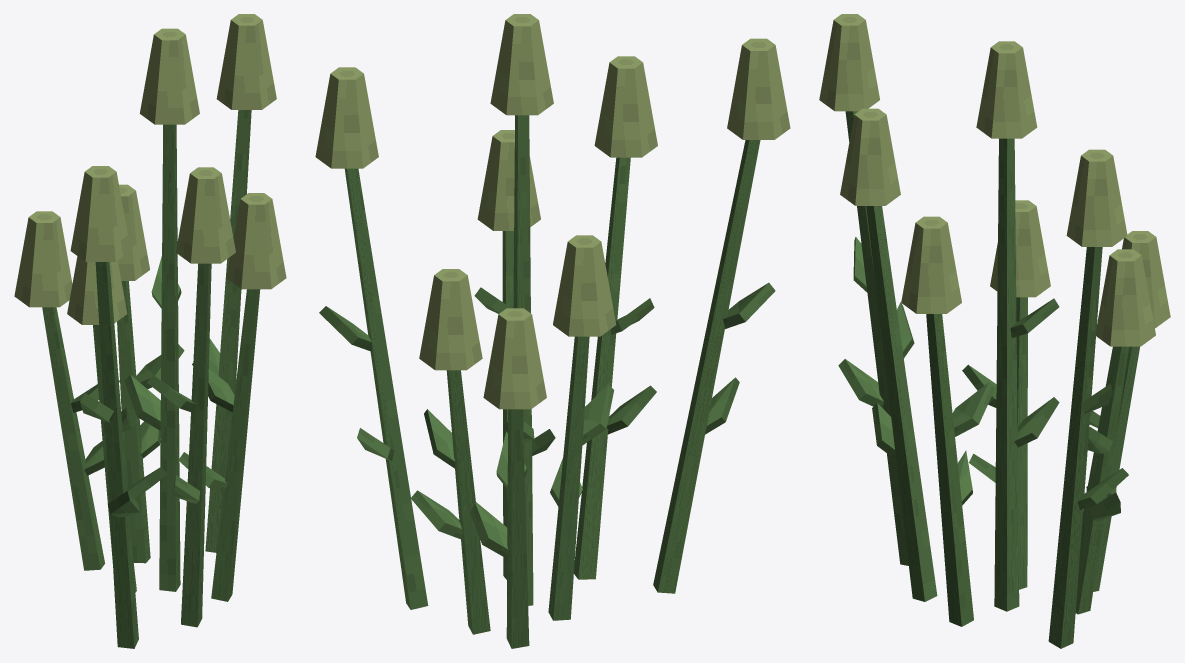
The model's file is f_asparagus_wild.glb.
3 views of the same model, side by side, from view 1: azimuth 30°, elevation 25°; view 2: azimuth 150°, elevation 25°; view 3: azimuth 270°, elevation 25° (orthographic). The views are drawn at different scales.
Parts seen in each view (by area): view 1: block_stem-0, block_pointed-leaf (×11), block_stem-1, block_stem-6, block_stem-3, block_stem-5, block_stem-7, block_flower-head-6, block_flower-head-0, block_flower-head-1, block_flower-head-5, block_flower-head-7 (+5 smaller); view 2: block_stem-1, block_pointed-leaf (×8), block_stem-5, block_stem-6, block_stem-4, block_flower-head-0, block_flower-head-2, block_flower-head-6, block_flower-head-7, block_flower-head-4, block_flower-head-5, block_flower-head-1 (+5 smaller); view 3: block_stem-0, block_stem-6, block_stem-5, block_pointed-leaf (×10), block_stem-3, block_flower-head-0, block_flower-head-5, block_flower-head-6, block_flower-head-2, block_flower-head-3, block_flower-head-1, block_stem-2 (+5 smaller).
Part boxes in pixels (bbox=[...]): block_stem-0: bbox=[159, 124, 180, 591]; block_pointed-leaf (×11): bbox=[80, 344, 234, 517]; block_stem-1: bbox=[95, 262, 138, 648]; block_stem-6: bbox=[181, 263, 211, 627]; block_stem-3: bbox=[211, 289, 260, 601]; block_stem-5: bbox=[205, 110, 251, 552]; block_stem-7: bbox=[42, 307, 104, 570]; block_flower-head-6: bbox=[175, 167, 235, 263]; block_flower-head-0: bbox=[139, 28, 199, 124]; block_flower-head-1: bbox=[70, 166, 130, 261]; block_flower-head-5: bbox=[216, 14, 276, 109]; block_flower-head-7: bbox=[14, 211, 72, 307]; block_stem-1: bbox=[653, 140, 760, 593]; block_pointed-leaf (×8): bbox=[319, 282, 775, 559]; block_stem-5: bbox=[344, 168, 428, 609]; block_stem-6: bbox=[574, 157, 630, 579]; block_stem-4: bbox=[548, 336, 589, 620]; block_flower-head-0: bbox=[490, 14, 553, 115]; block_flower-head-2: bbox=[419, 269, 482, 370]; block_flower-head-6: bbox=[594, 56, 657, 157]; block_flower-head-7: bbox=[483, 308, 546, 409]; block_flower-head-4: bbox=[553, 235, 616, 336]; block_flower-head-5: bbox=[315, 67, 378, 168]; block_flower-head-1: bbox=[727, 38, 790, 139]; block_stem-0: bbox=[994, 138, 1019, 611]; block_stem-6: bbox=[866, 206, 937, 601]; block_stem-5: bbox=[1048, 247, 1102, 648]; block_pointed-leaf (×10): bbox=[838, 298, 1128, 520]; block_stem-3: bbox=[926, 314, 973, 626]; block_flower-head-0: bbox=[976, 41, 1037, 138]; block_flower-head-5: bbox=[1066, 149, 1127, 246]; block_flower-head-6: bbox=[840, 108, 900, 205]; block_flower-head-2: bbox=[1096, 249, 1155, 346]; block_flower-head-3: bbox=[901, 216, 961, 313]; block_flower-head-1: bbox=[819, 14, 879, 111]; block_stem-2: bbox=[1075, 346, 1128, 614].
Bounding box in the file's own units: 0.4204 × 0.7106 × 0.4035.
Materials: 1 (1 with a texture image).
